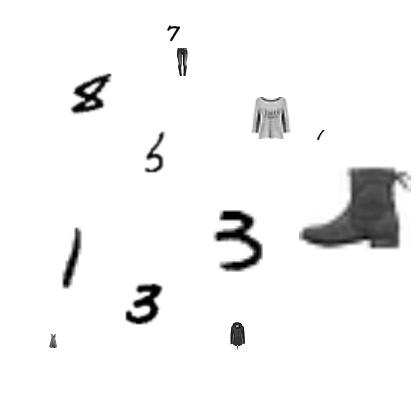1: (30, 216, 114, 300), (313, 128, 327, 142)
3: (196, 196, 280, 280), (116, 276, 172, 332)
5: (127, 126, 183, 182)
7: (162, 20, 184, 42)
8: (61, 66, 117, 122)
Ankle_boot: (299, 152, 411, 264)
Coat: (223, 322, 251, 350)
Dress: (46, 334, 60, 348)
Pullover: (250, 97, 292, 139)
Trouser: (168, 48, 196, 76)
